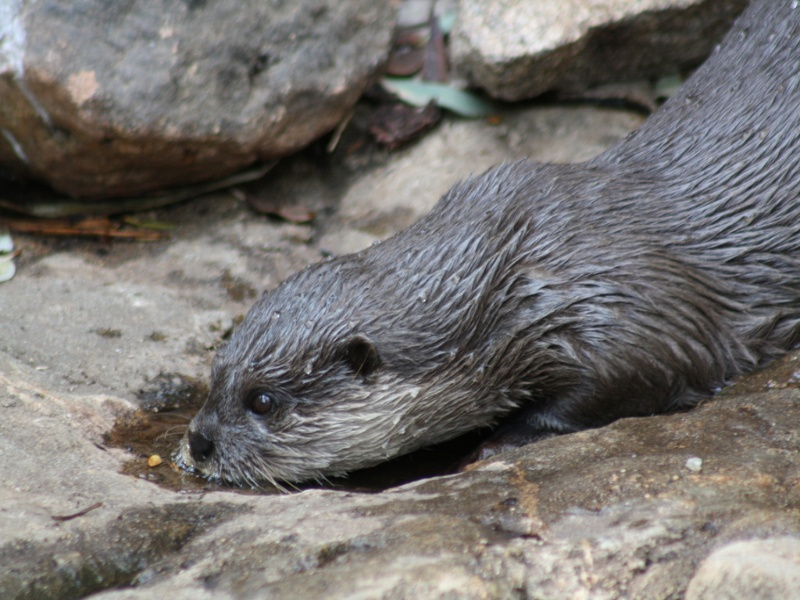minkish: (172, 22, 800, 493)
